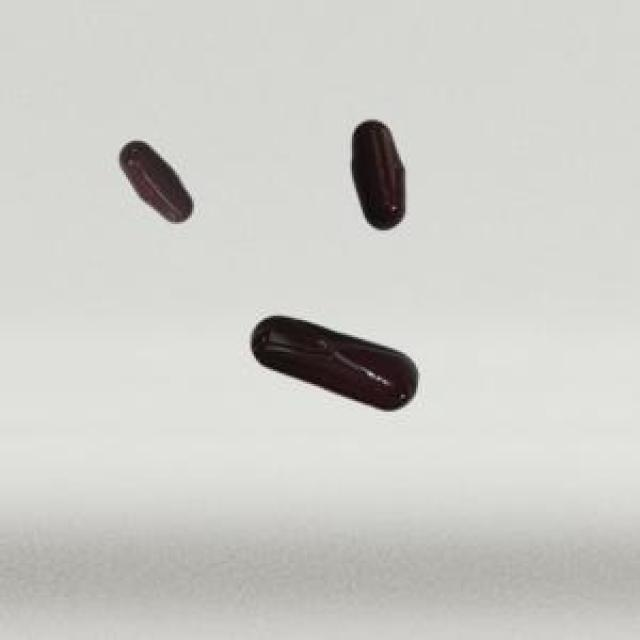DayZinc: (228, 291, 433, 430), (99, 116, 219, 240), (329, 108, 418, 242)
